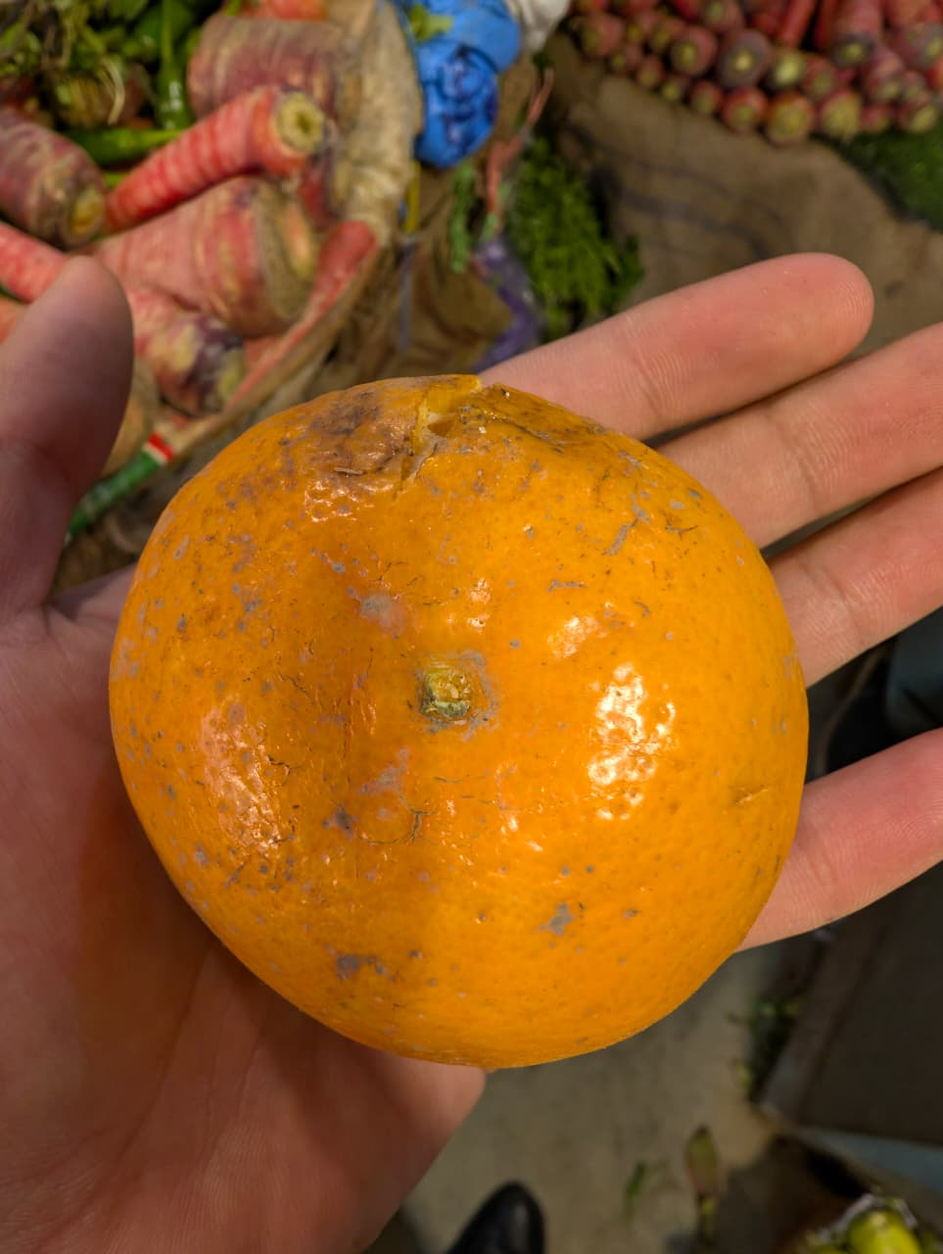orange: (37, 142, 779, 969)
